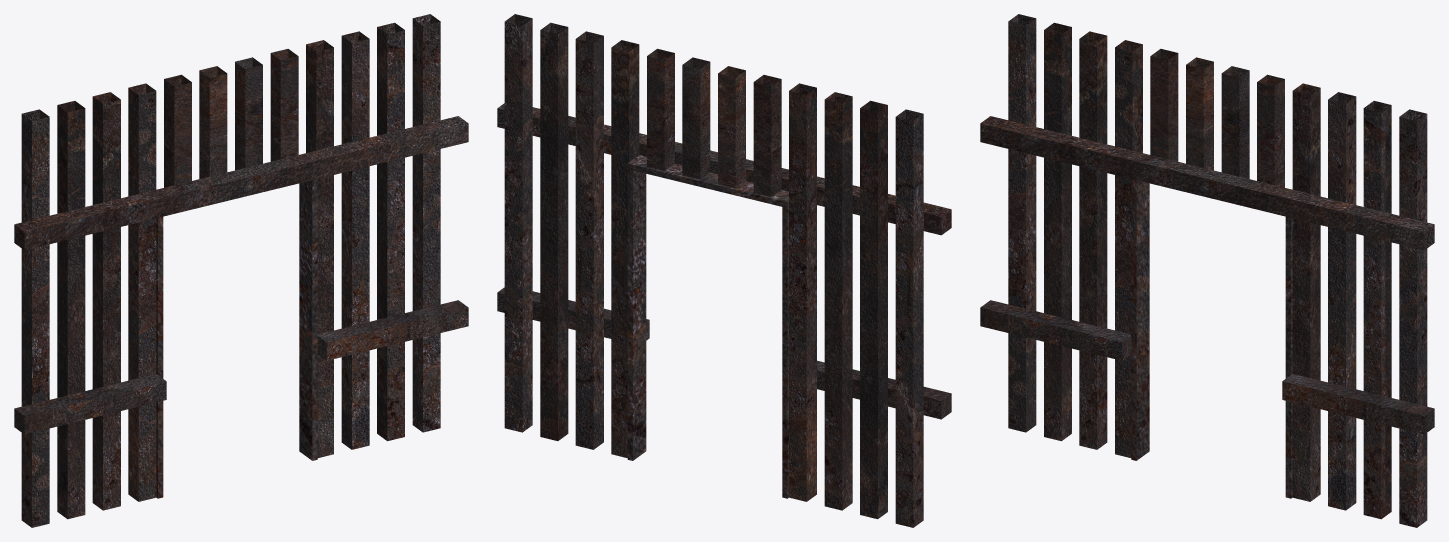
File: Prison_wall.fbx
3 views of the same model, side by side, from view 1: azimuth 30°, elevation 25°; view 2: azimuth 150°, elevation 25°; view 3: azimuth 330°, elevation 25° (orthographic).
Visible parts, largest first — view 1: Wall_lattice; view 2: Wall_lattice; view 3: Wall_lattice.
Part boxes in pixels (bbox=[...]): Wall_lattice: bbox=[14, 14, 468, 527]; Wall_lattice: bbox=[497, 14, 951, 527]; Wall_lattice: bbox=[980, 14, 1434, 527].
Size of the model in its own units: 4 by 3.5 by 0.3441.
